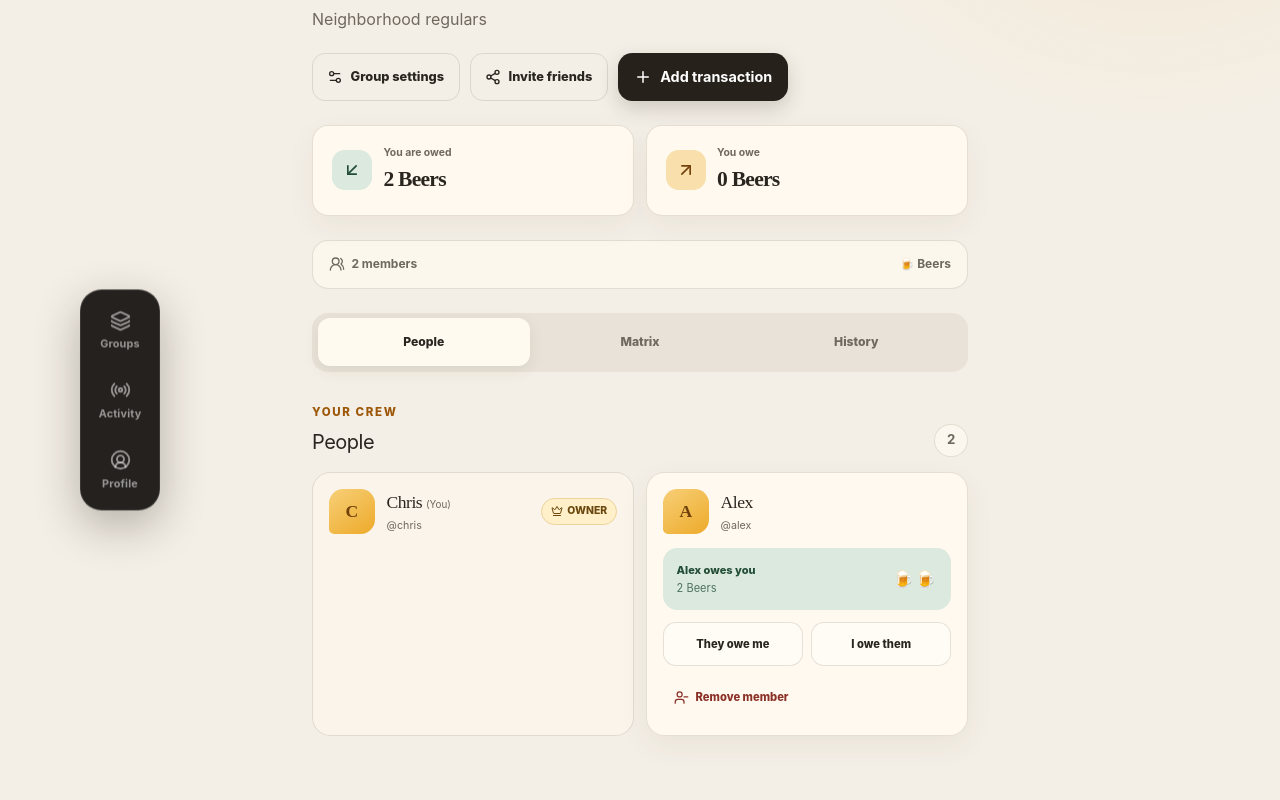
BeerMe app shell › lets owners open a targeted member-removal confirmation
(page scrolled)
Click the button "Remove member" at (731, 697), box [663,675,800,719]
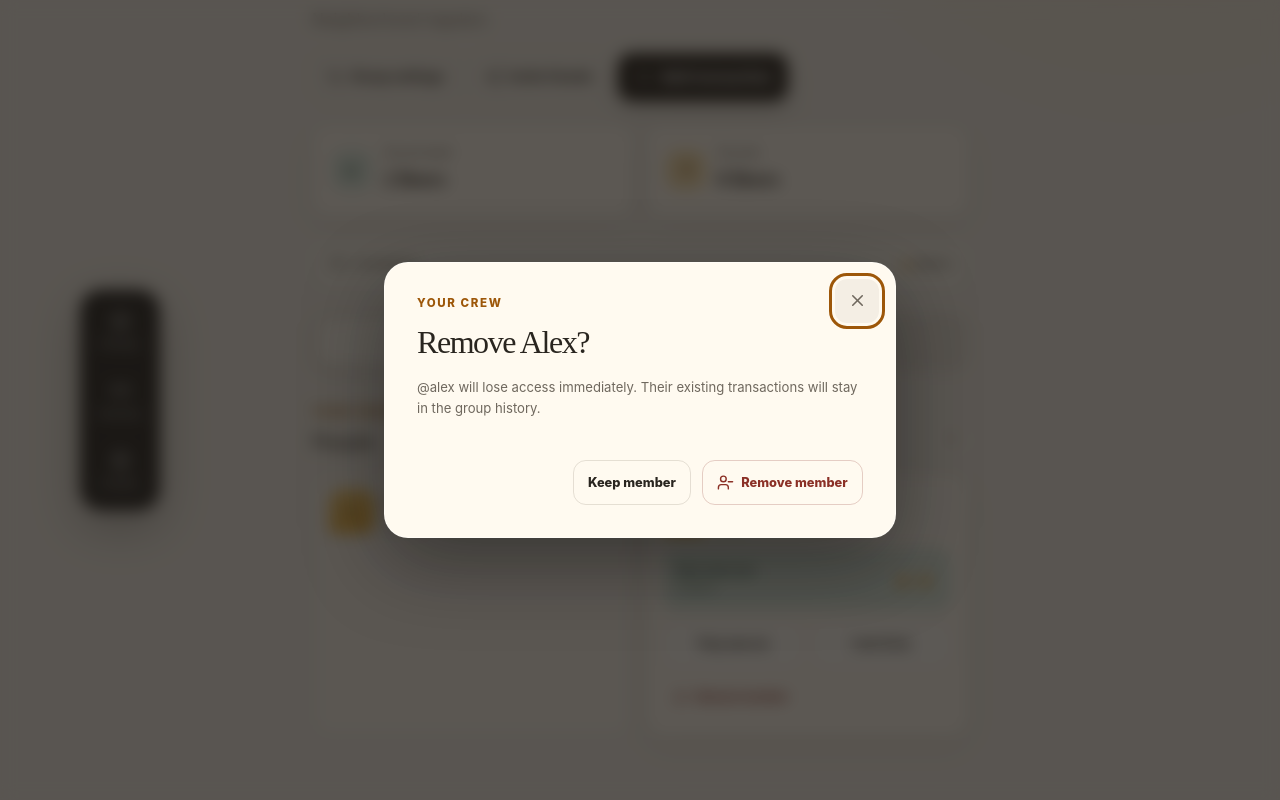
Result: the text "@alex will lose access immediately" is shown at [417,379,858,416]
Result: the button "Remove member" is shown at [702,460,863,505]
